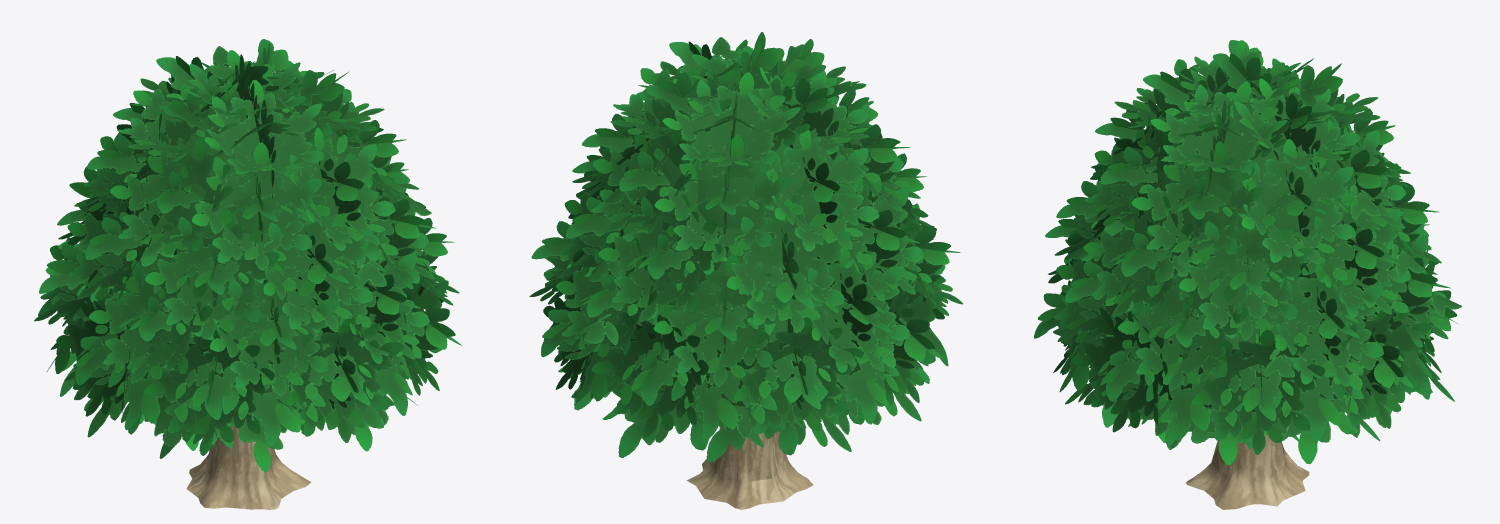
File: Tree.fbx
3 views of the same model, side by side, from view 1: azimuth 30°, elevation 25°; view 2: azimuth 150°, elevation 25°; view 3: azimuth 270°, elevation 25° (orthographic).
Parts seen in each view (by area): view 1: e4ab293a8d57fbd3a22322; view 2: e4ab293a8d57fbd3a22322; view 3: e4ab293a8d57fbd3a22322.
Part boxes in pixels (box(x1,y1,x2,y2)): e4ab293a8d57fbd3a22322: box(34, 39, 461, 509); e4ab293a8d57fbd3a22322: box(529, 32, 963, 509); e4ab293a8d57fbd3a22322: box(1034, 40, 1461, 509).
Size of the model in its own units: 72.05 by 76.02 by 72.22.
2 materials, 2 textured.
